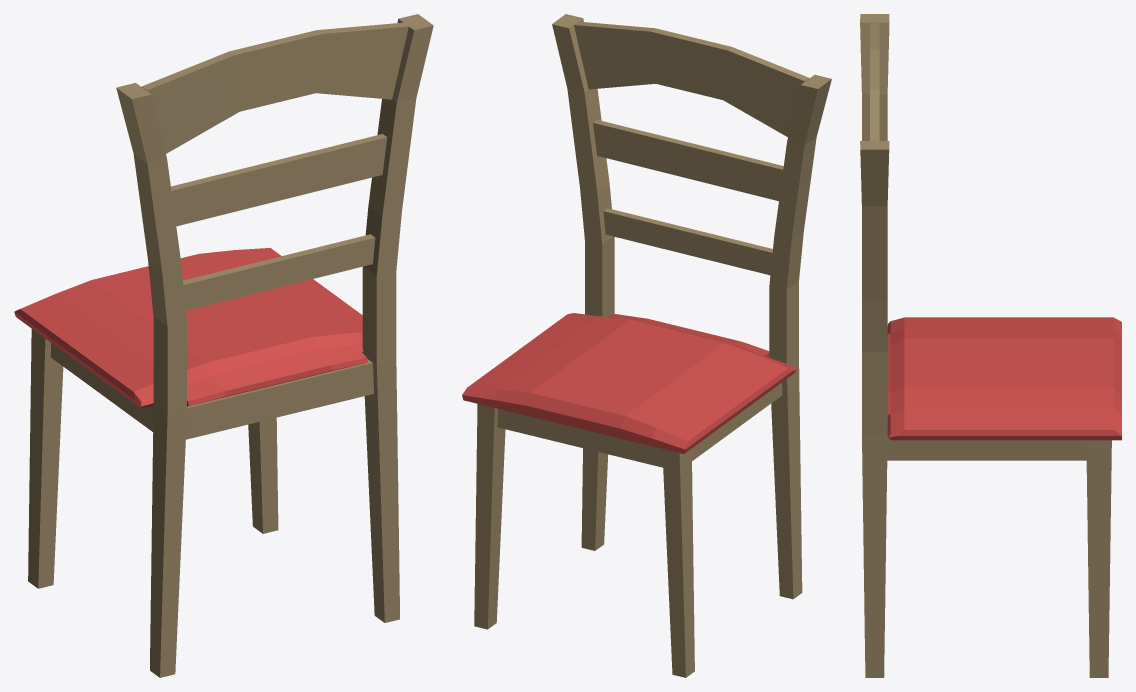
File: chair.fbx
3 renders of one model, left to right at view 1: azimuth 30°, elevation 25°; view 2: azimuth 150°, elevation 25°; view 3: azimuth 270°, elevation 25°, orthographic. The views are drawn at different scales.
Parts seen in each view (by area): view 1: CHAIR; view 2: CHAIR; view 3: CHAIR.
Part boxes in pixels (<box>): CHAIR: <box>14,14,433,677</box>; CHAIR: <box>462,14,831,677</box>; CHAIR: <box>860,14,1121,677</box>.
Size of the model in its own units: 318 by 607 by 260.
